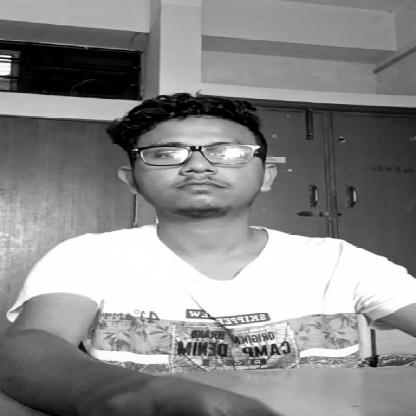Normal: (105, 108, 298, 221)
